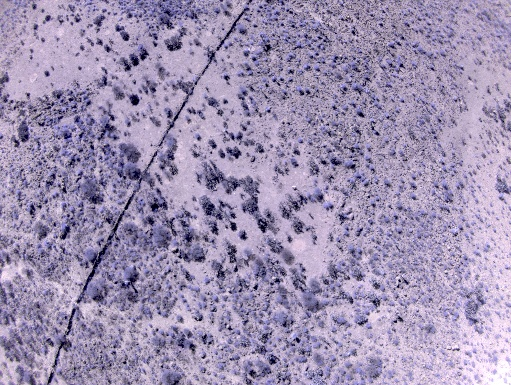agave: (300, 33, 321, 51), (235, 24, 248, 37), (127, 93, 139, 107), (288, 144, 301, 156), (345, 158, 356, 172), (338, 83, 349, 96), (355, 107, 365, 121), (239, 86, 249, 100), (324, 199, 334, 213), (303, 61, 314, 73), (407, 189, 417, 202), (296, 85, 306, 97), (354, 84, 364, 96), (220, 71, 230, 83), (348, 61, 359, 71), (194, 130, 203, 141), (384, 179, 392, 190), (386, 58, 394, 69), (389, 40, 397, 51), (442, 181, 449, 193), (241, 48, 250, 57), (286, 54, 295, 63), (411, 42, 420, 51), (238, 231, 246, 241), (261, 34, 269, 44), (331, 52, 339, 62), (355, 142, 362, 152), (245, 70, 256, 76), (399, 62, 406, 71), (343, 103, 349, 112), (396, 204, 403, 211), (332, 104, 339, 111), (271, 75, 277, 83)
